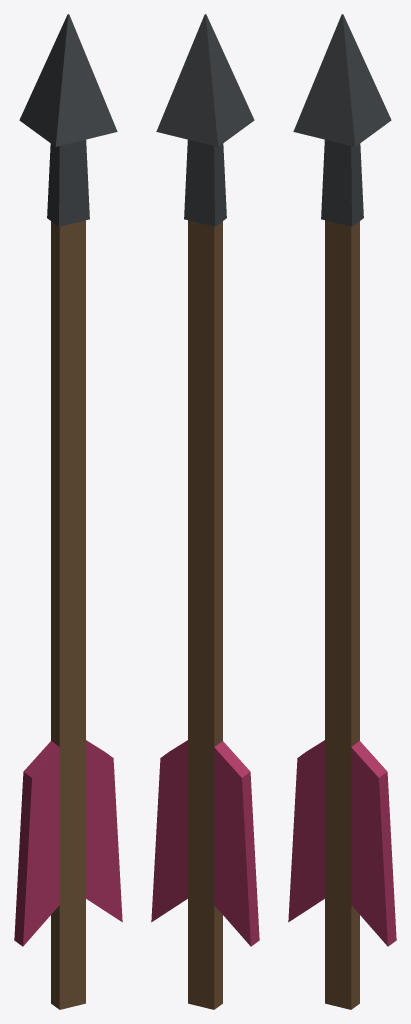
File: Arrow.fbx
The picture shows the model from 3 angles, left to right: view 1: azimuth 30°, elevation 25°; view 2: azimuth 150°, elevation 25°; view 3: azimuth 330°, elevation 25°; orthographic projection.
Parts seen in each view (by area): view 1: Arrow; view 2: Arrow; view 3: Arrow.
Part boxes in pixels (bbox=[...]): Arrow: bbox=[14, 14, 122, 1009]; Arrow: bbox=[151, 14, 259, 1009]; Arrow: bbox=[288, 14, 396, 1009].
Bounding box in the file's own units: 19.69 × 187 × 12.46.
1 material, 1 textured.
